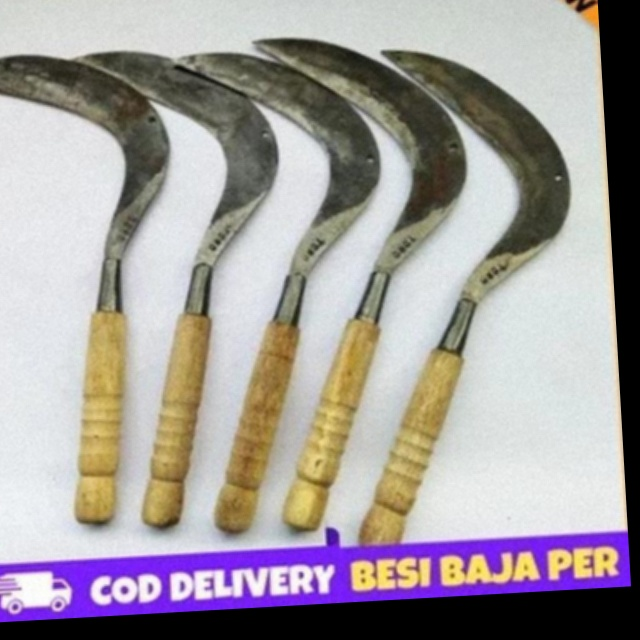Sharp-Object: (329, 32, 611, 553), (250, 23, 491, 541), (0, 15, 186, 541)
